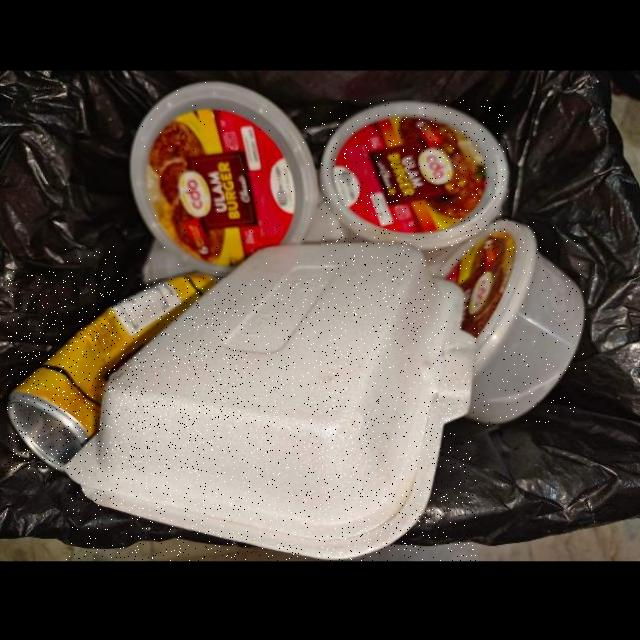metal: (8, 270, 228, 474)
plastic: (130, 82, 321, 278), (316, 101, 508, 269), (445, 220, 586, 426)
styrofoam: (65, 243, 476, 561)
